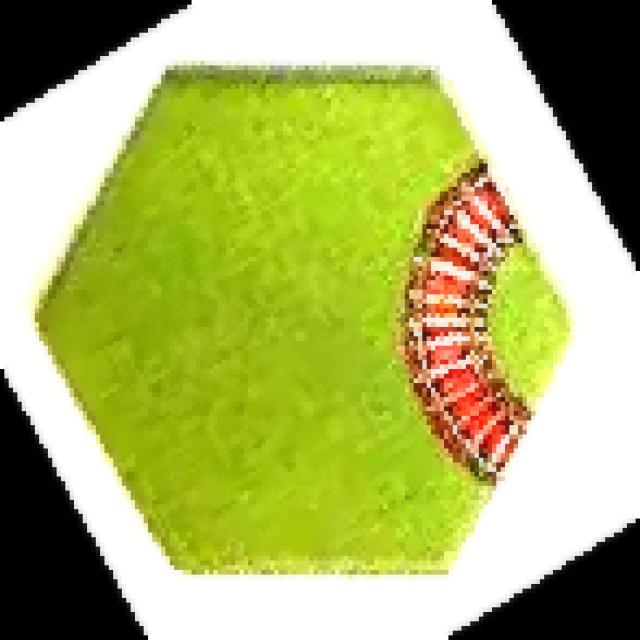1_2: (36, 63, 576, 578)
